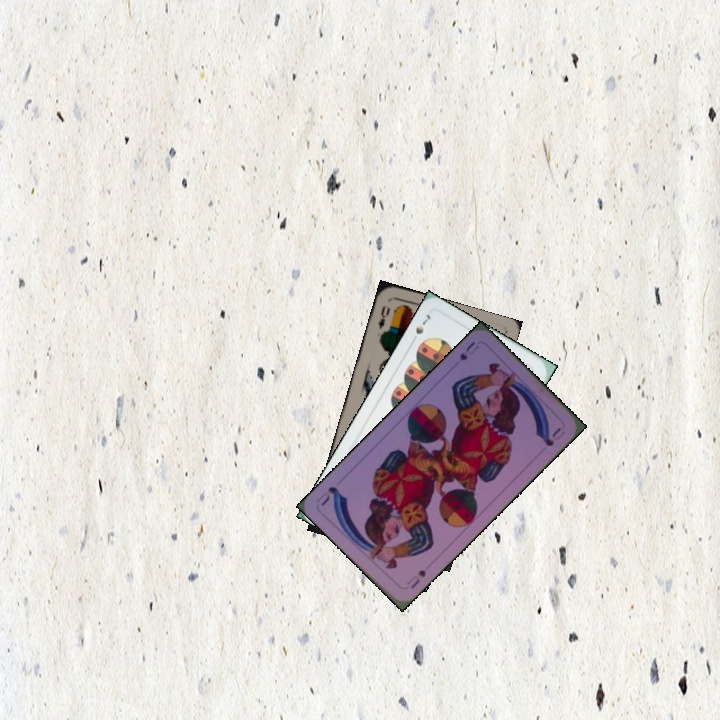EO: (374, 302, 393, 338)
S7: (407, 310, 434, 346)
SU: (456, 337, 482, 363), (402, 566, 429, 591)
